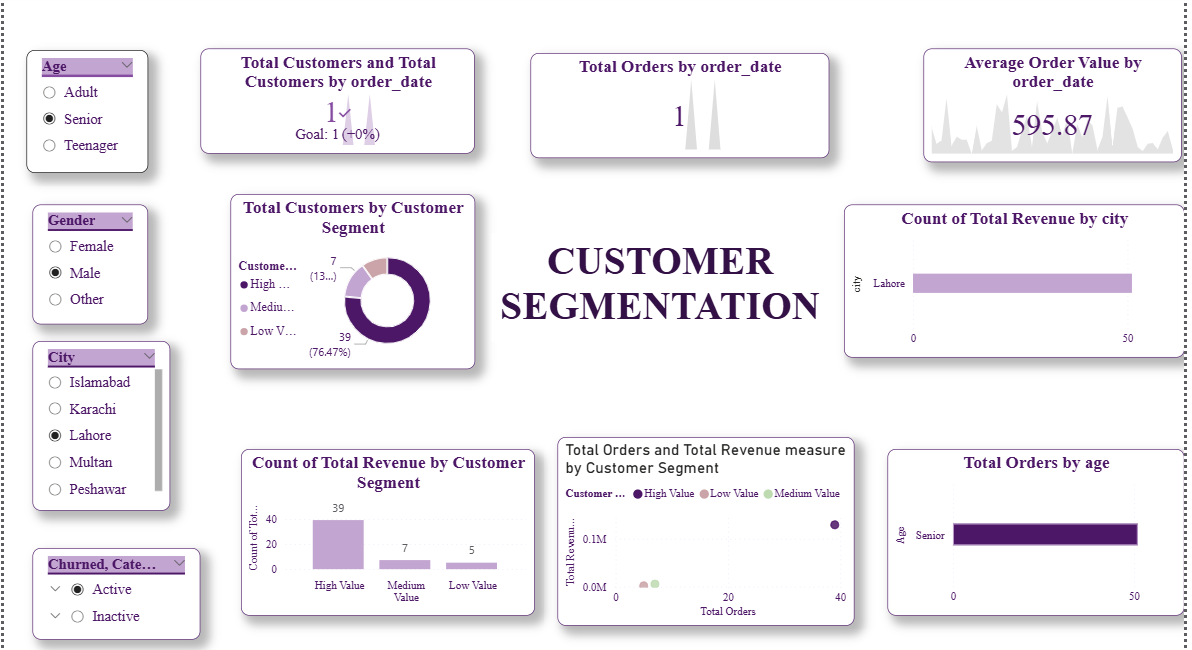

The dashboard page shown, as its layout file describes it:
{"tool":"powerbi","page":{"name":"Page 4","canvas":[1280,720],"ordinal":3},"visuals":[{"type":"kpi","fields":{"Indicator":["Foodpanda Analysis Dataset.Total Customers"],"Goal":["Foodpanda Analysis Dataset.Total Customers"],"TrendLine":["Foodpanda Analysis Dataset.order_date"]},"box":[213.1,60.2,297.7,113.9],"z":0},{"type":"kpi","fields":{"Indicator":["Foodpanda Analysis Dataset.Total Orders"],"TrendLine":["Foodpanda Analysis Dataset.order_date"]},"box":[570.9,65.1,323.7,113.9],"z":1000},{"type":"kpi","fields":{"Indicator":["Foodpanda Analysis Dataset.Average Order Value"],"TrendLine":["Foodpanda Analysis Dataset.order_date"]},"box":[997.1,60.2,279.8,123.6],"z":2000},{"type":"donutChart","fields":{"Category":["Foodpanda Analysis Dataset.Customer Segment"],"Y":["Foodpanda Analysis Dataset.Total Customers"]},"box":[245.6,218,265.1,190.3],"z":3000},{"type":"clusteredColumnChart","fields":{"Category":["Foodpanda Analysis Dataset.Customer Segment"],"Y":["CountNonNull(Foodpanda Analysis Dataset.Total Revenue)"]},"box":[257,494.5,318.8,180.5],"z":4000},{"type":"barChart","fields":{"Category":["Foodpanda Analysis Dataset.age"],"Y":["Foodpanda Analysis Dataset.Total Orders"]},"box":[958,494.5,322.1,180.5],"z":5000},{"type":"clusteredBarChart","fields":{"Category":["Foodpanda Analysis Dataset.city"],"Y":["CountNonNull(Foodpanda Analysis Dataset.Total Revenue)"]},"box":[910.9,229.3,369.2,165.9],"z":6000},{"type":"scatterChart","fields":{"X":["Foodpanda Analysis Dataset.Total Orders"],"Y":["Foodpanda Analysis Dataset.Total Revenue measure"],"Series":["Foodpanda Analysis Dataset.Customer Segment"]},"box":[600.2,481.5,322.1,204.9],"z":7000},{"type":"slicer","fields":{"Values":["Foodpanda Analysis Dataset.age"]},"box":[24.4,61.8,131.8,133.4],"z":8000},{"type":"slicer","fields":{"Values":["Foodpanda Analysis Dataset.gender"]},"box":[30.9,229.3,125.2,130.1],"z":9000},{"type":"slicer","fields":{"Values":["Foodpanda Analysis Dataset.city"]},"box":[30.9,377.4,149.6,183.8],"z":10000},{"type":"slicer","fields":{"Values":["Foodpanda Analysis Dataset.churned","Foodpanda Analysis Dataset.category"]},"box":[30.9,601.8,182.2,99.2],"z":11000},{"type":"textbox","box":[528.6,260.2,366,117.1],"z":12000}]}

Visuals, with their boxes in screenshot pixels (x1, y1, x2, y2):
kpi - Foodpanda Analysis Dataset.Total Customers x Foodpanda Analysis Dataset.Total Customers: region(199, 46, 474, 151)
kpi - Foodpanda Analysis Dataset.Total Orders x Foodpanda Analysis Dataset.order_date: region(529, 51, 827, 156)
kpi - Foodpanda Analysis Dataset.Average Order Value x Foodpanda Analysis Dataset.order_date: region(922, 46, 1179, 160)
donutChart - Foodpanda Analysis Dataset.Customer Segment x Foodpanda Analysis Dataset.Total Customers: region(229, 192, 474, 367)
clusteredColumnChart - Foodpanda Analysis Dataset.Customer Segment x CountNonNull(Foodpanda Analysis Dataset.Total Revenue): region(240, 446, 534, 613)
barChart - Foodpanda Analysis Dataset.age x Foodpanda Analysis Dataset.Total Orders: region(886, 446, 1182, 613)
clusteredBarChart - Foodpanda Analysis Dataset.city x CountNonNull(Foodpanda Analysis Dataset.Total Revenue): region(842, 202, 1182, 355)
scatterChart - Foodpanda Analysis Dataset.Total Orders x Foodpanda Analysis Dataset.Total Revenue measure: region(556, 434, 853, 623)
slicer - Foodpanda Analysis Dataset.age: region(26, 48, 147, 171)
slicer - Foodpanda Analysis Dataset.gender: region(32, 202, 147, 322)
slicer - Foodpanda Analysis Dataset.city: region(32, 338, 169, 508)
slicer - Foodpanda Analysis Dataset.churned x Foodpanda Analysis Dataset.category: region(32, 545, 199, 637)
textbox: region(490, 230, 827, 338)
